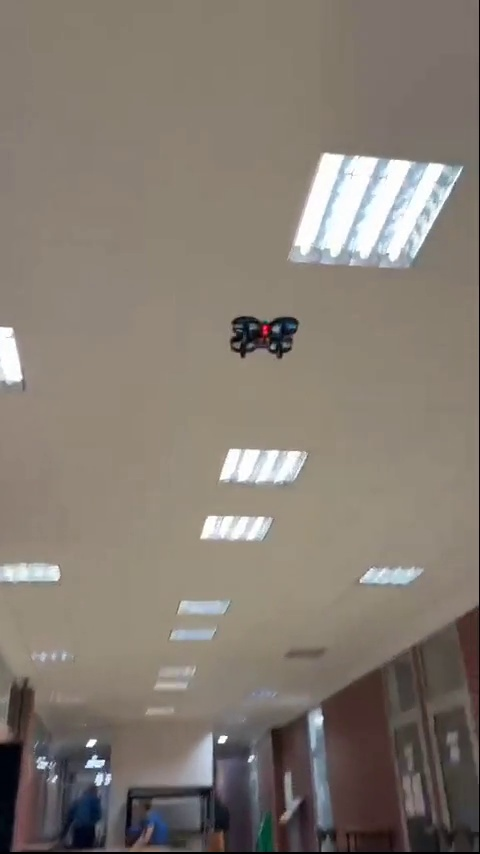drone: (229, 315, 297, 356)
